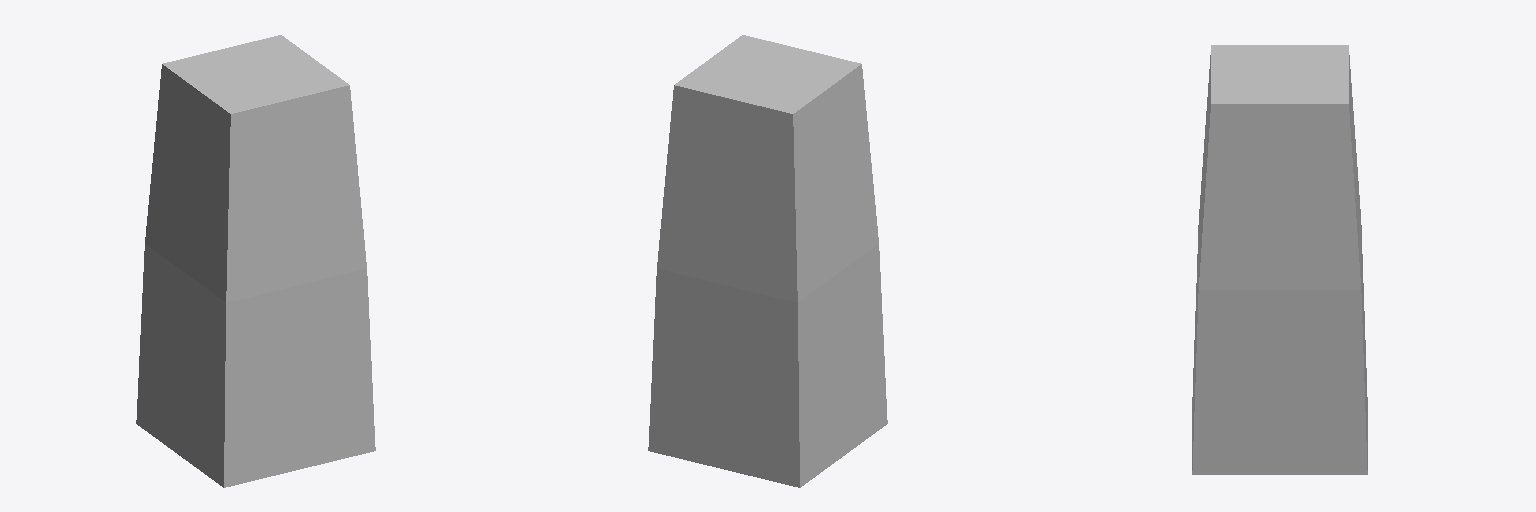
File: white_latex_pillar.obj
3 renders of one model, left to right at view 1: azimuth 30°, elevation 25°; view 2: azimuth 150°, elevation 25°; view 3: azimuth 270°, elevation 25°, orthographic.
Visible parts, largest first — view 1: cuboid; view 2: cuboid; view 3: cuboid.
Part boxes in pixels (left/top/right/bottom): cuboid: left=136, top=35, right=375, bottom=487; cuboid: left=648, top=35, right=887, bottom=487; cuboid: left=1192, top=45, right=1367, bottom=474.
Bounding box in the file's own units: 0.875 × 2 × 0.875.